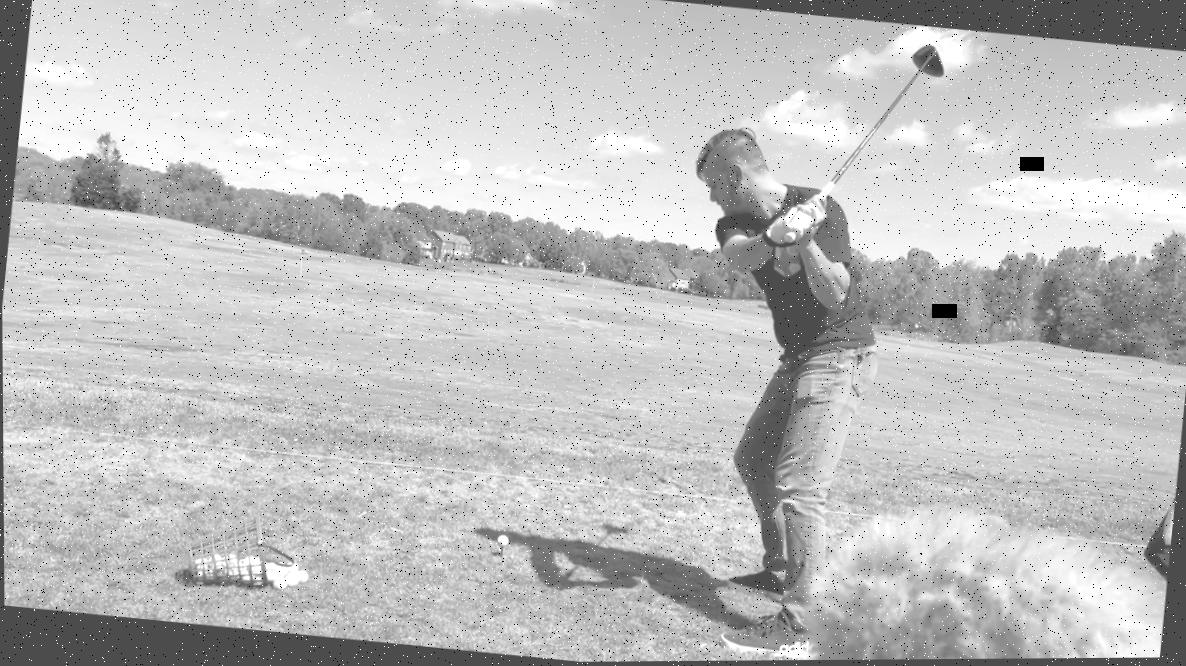ClubHead: (904, 38, 953, 93)
GolfBall: (492, 533, 512, 553)
